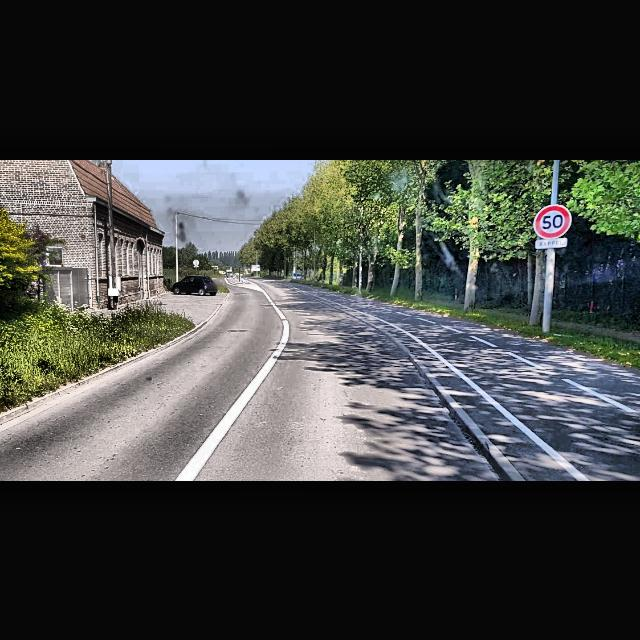speed_50: (534, 205, 570, 238)
